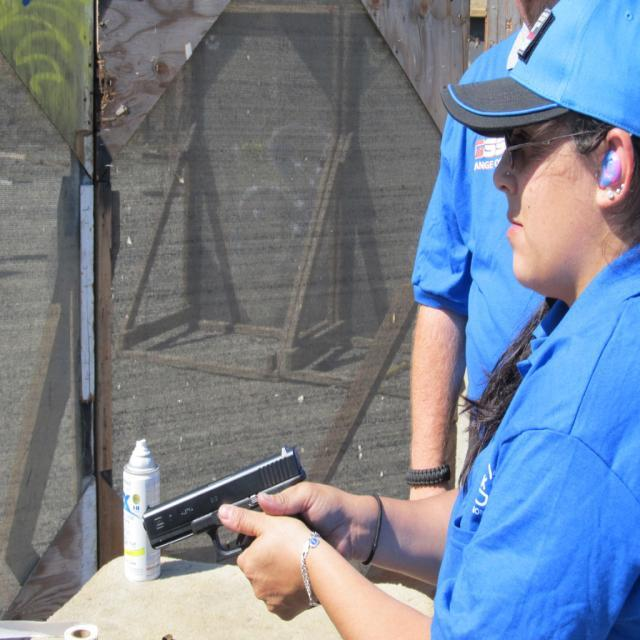Gun: (146, 449, 304, 557)
